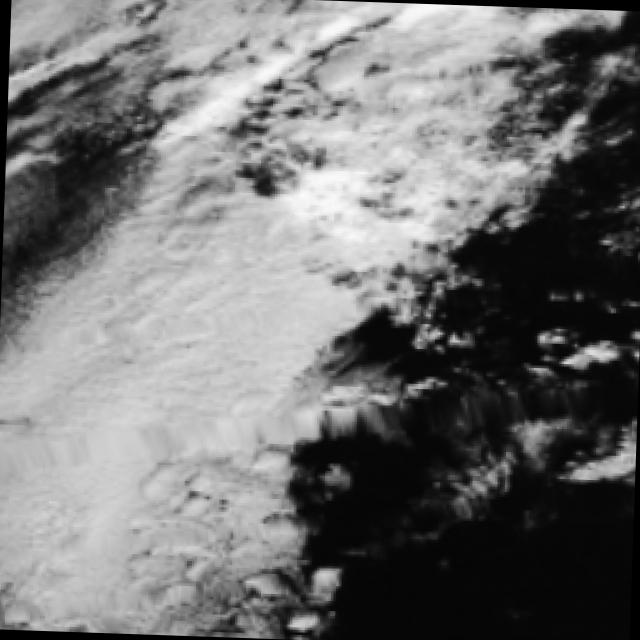CB: (20, 310, 230, 508), (93, 214, 290, 408), (0, 442, 190, 608)
